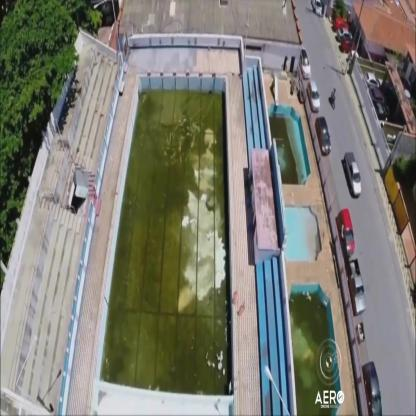agua: (117, 97, 226, 382), (296, 300, 328, 415), (277, 116, 297, 183)
